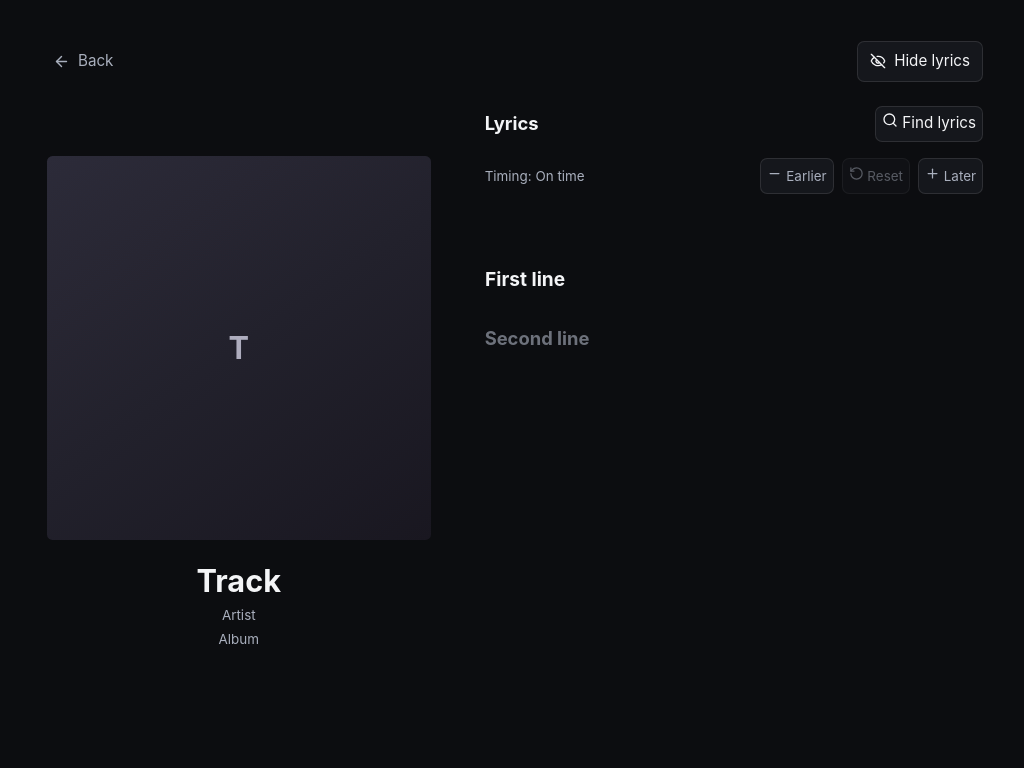
Test: Now Playing lyrics › searches deliberately and persists a manually selected recording
This screenshot has width=1024, height=768.
Expected: the button "First line" is shown, [485, 257, 983, 302]
Click the button "Find lyrics": x=929, y=124 [875, 106, 983, 142]
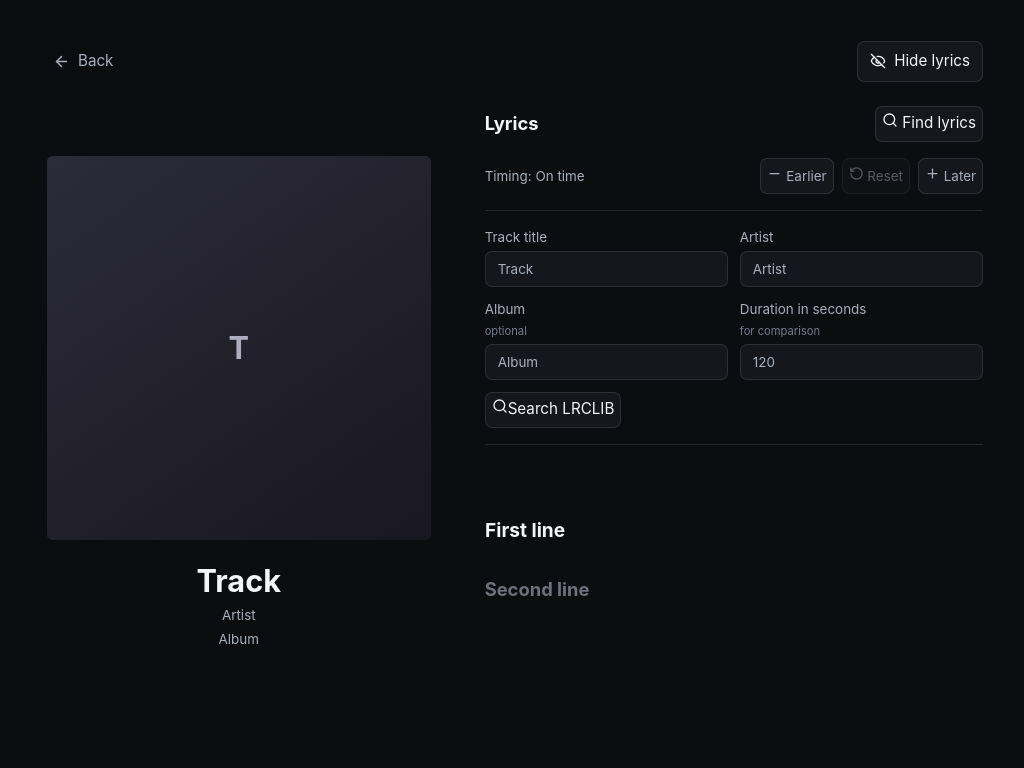
Click the button "Search LRCLIB": x=553, y=410 [485, 392, 621, 428]
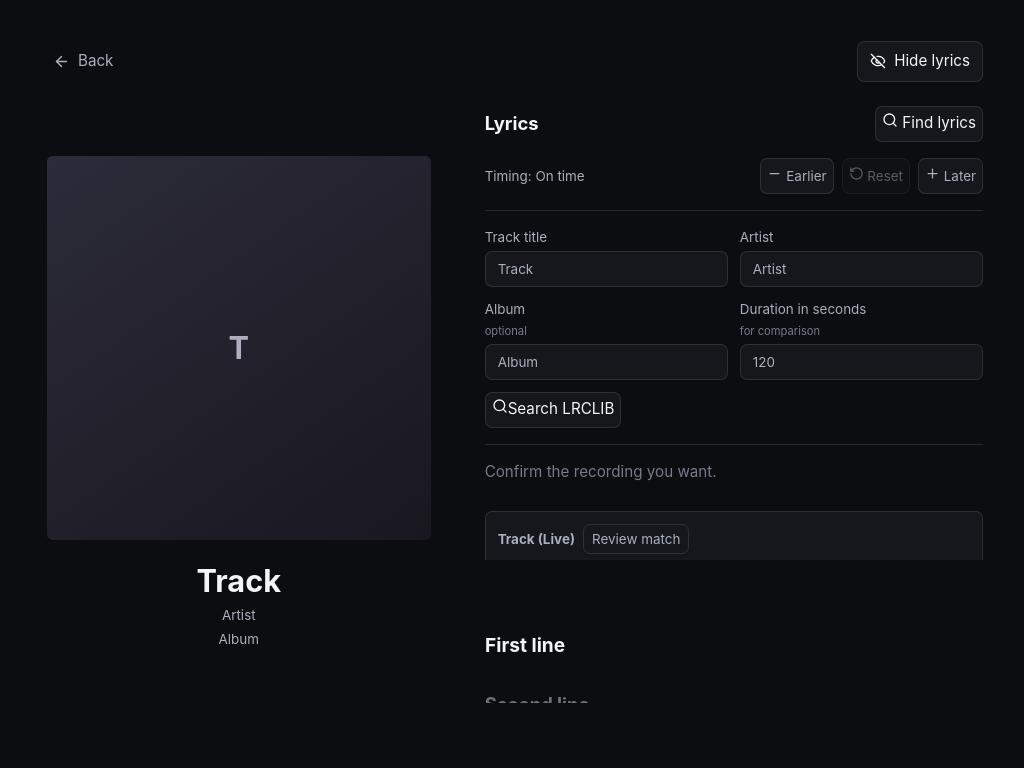
Click the button that starts with "Track (Live)": x=536, y=539 [485, 511, 983, 615]
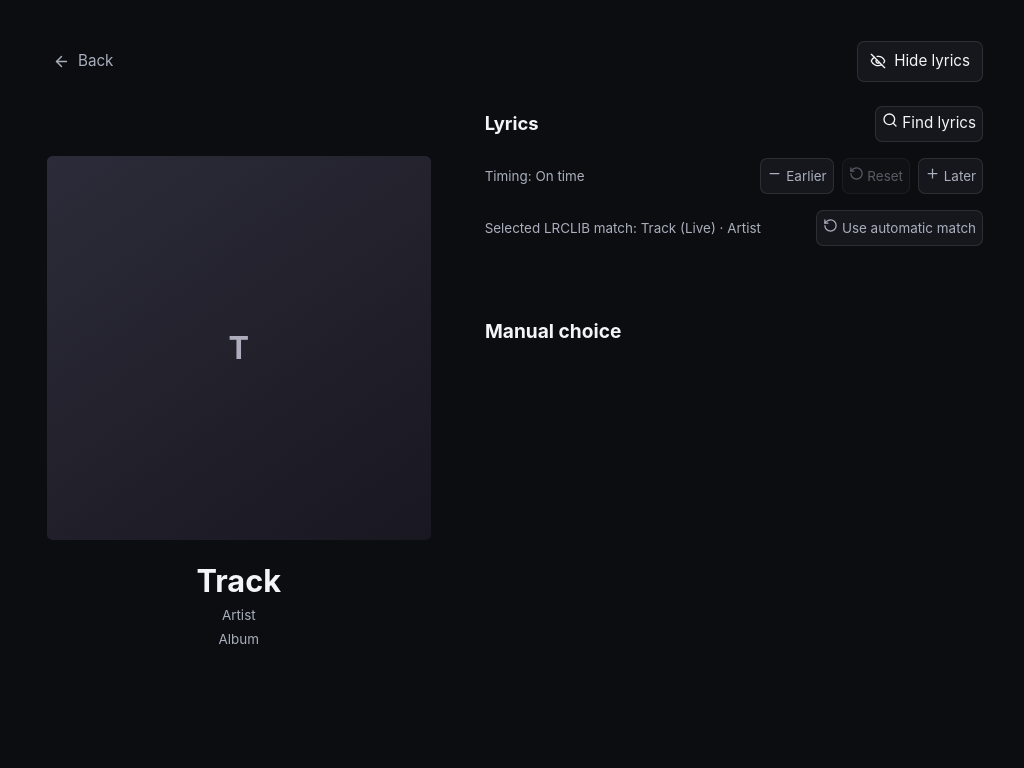
Expected: the button "Manual choice" is shown, [485, 309, 983, 354]
Expected: the text "Selected LRCLIB match: Track (Live) · Artist" is shown, [485, 218, 761, 238]
